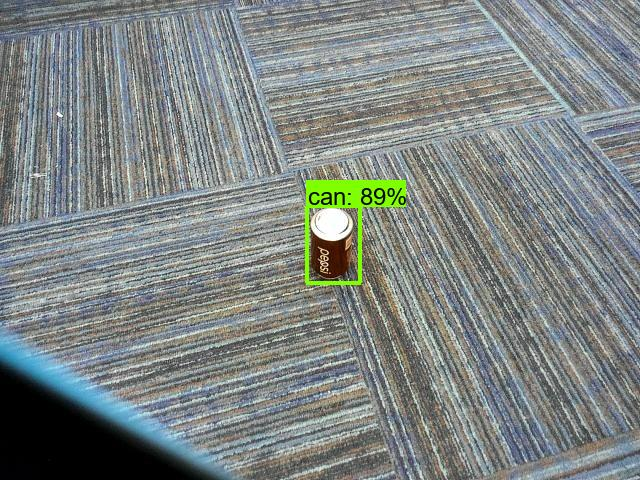can: (301, 205, 357, 287)
